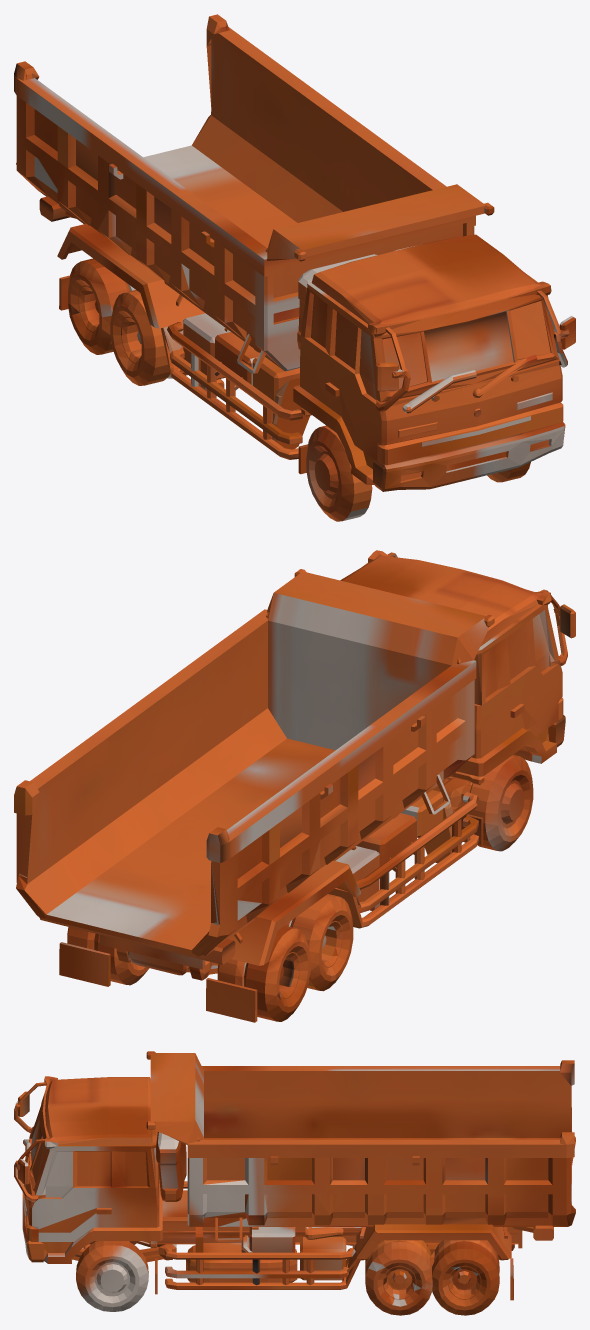
Rendered from fuso.obj.
The picture shows the model from 3 angles, top to bottom: view 1: azimuth 30°, elevation 25°; view 2: azimuth 150°, elevation 25°; view 3: azimuth 270°, elevation 25°; orthographic projection. The views are drawn at different scales.
Parts seen in each view (by area): view 1: texture_pbr_v128; view 2: texture_pbr_v128; view 3: texture_pbr_v128.
Boxes of the visible parts, bbox=[...] form: texture_pbr_v128: bbox=[14, 14, 575, 521]; texture_pbr_v128: bbox=[14, 550, 575, 1022]; texture_pbr_v128: bbox=[14, 1051, 575, 1315].
Size of the model in its own units: 0.3766 by 0.4116 by 1.09.
